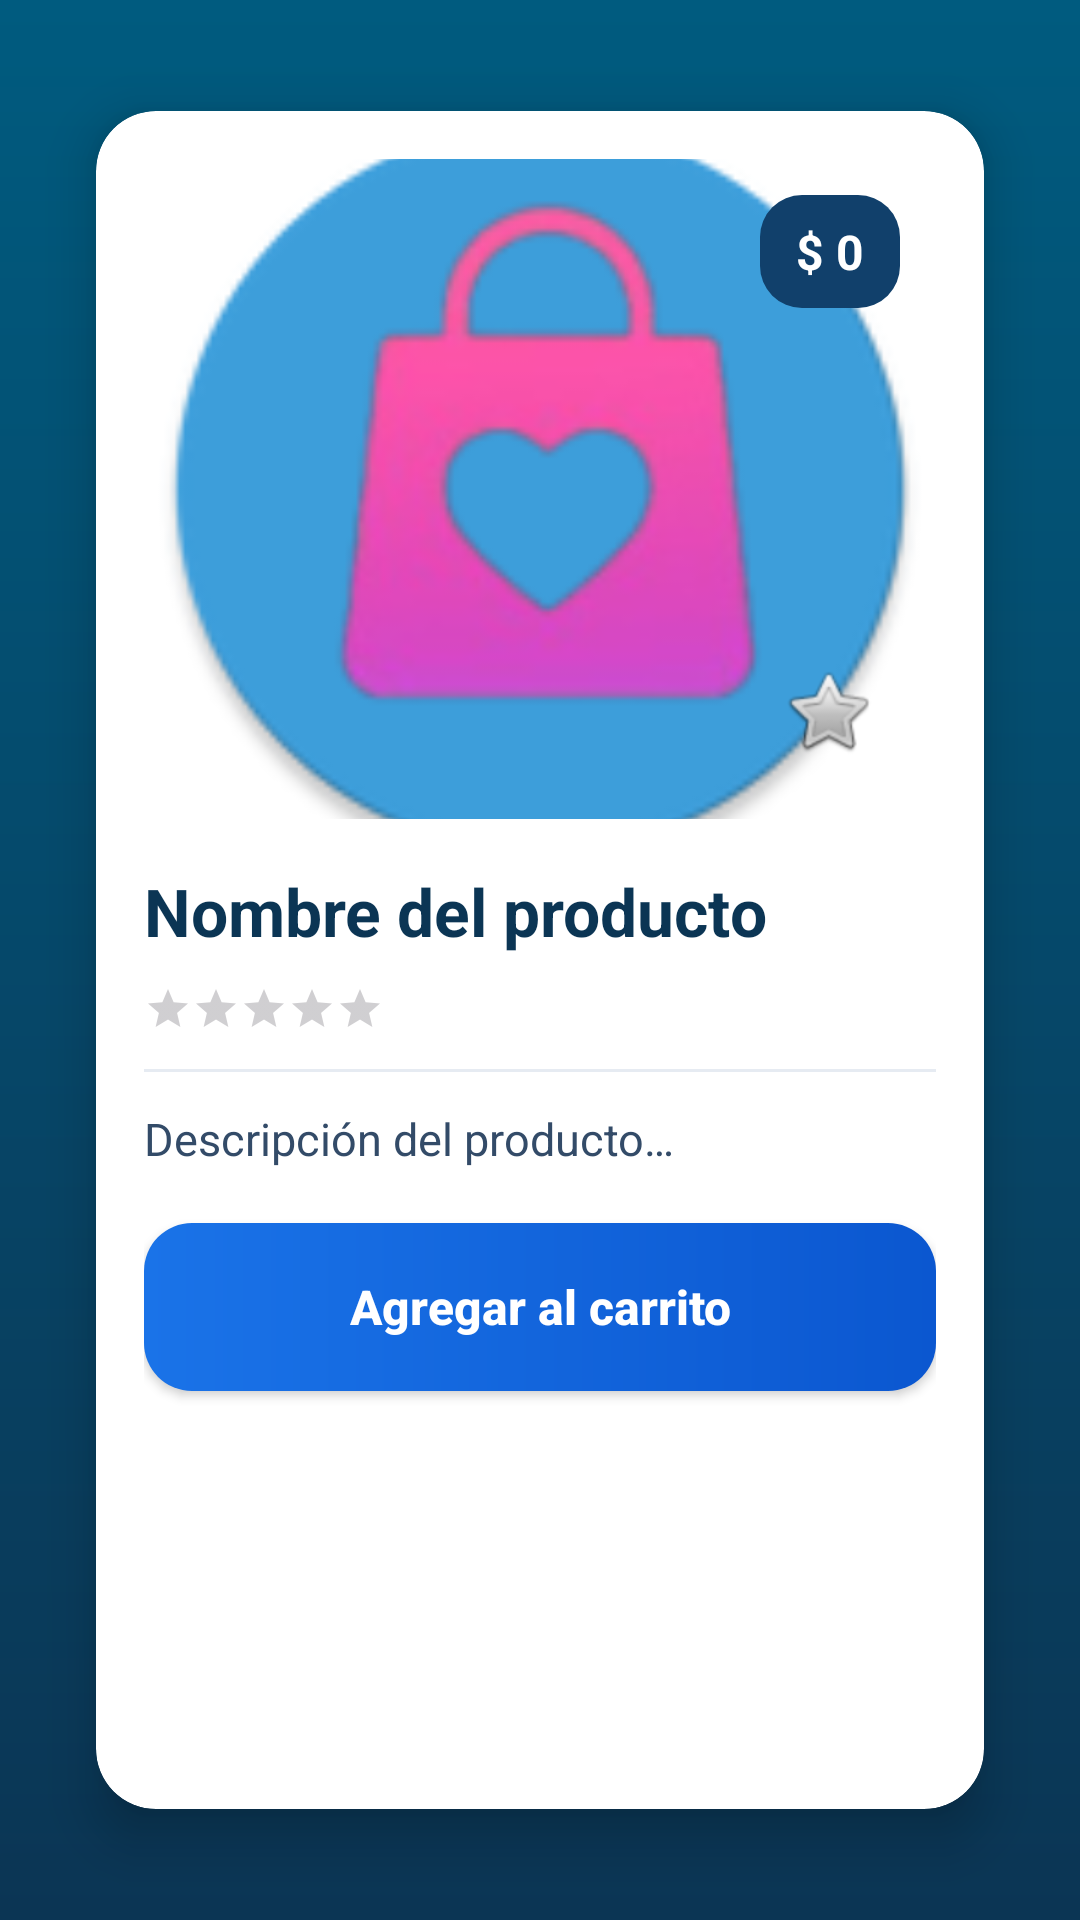

Named icons in this screenshot (1080x1920) and their centers, (x,y):
Marcar como favorito: (828,711)
